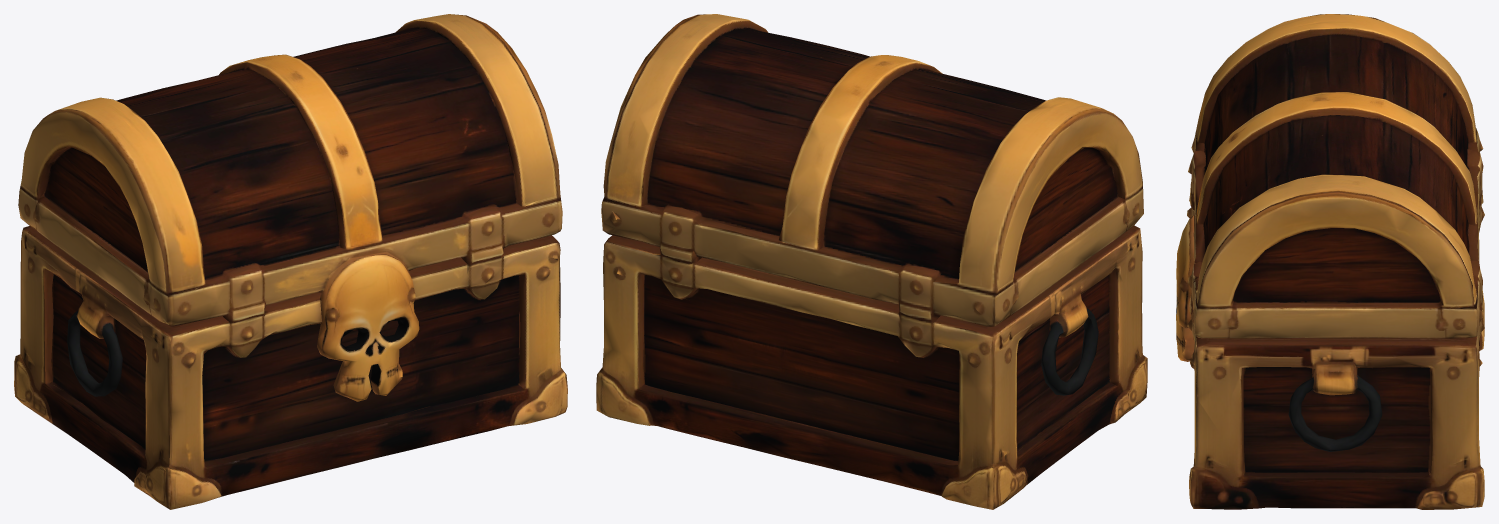
Rendered from chest.glb.
The picture shows the model from 3 angles, left to right: view 1: azimuth 30°, elevation 25°; view 2: azimuth 150°, elevation 25°; view 3: azimuth 270°, elevation 25°; orthographic projection. The views are drawn at different scales.
Visible parts, largest first — view 1: world; view 2: world; view 3: world.
Part boxes in pixels (left/top/right/bottom): world: left=14, top=14, right=567, bottom=509; world: left=596, top=14, right=1147, bottom=509; world: left=1176, top=14, right=1484, bottom=509.
Bounding box in the file's own units: 0.9994 × 0.7866 × 0.6874.
Materials: 1 (1 with a texture image).
